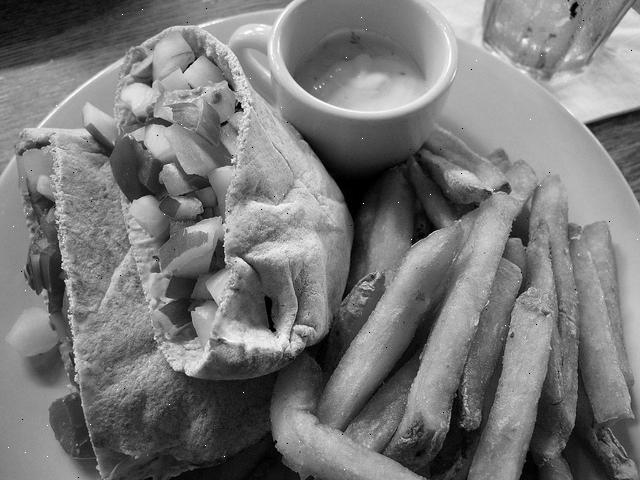cup: (226, 0, 465, 174), (475, 2, 640, 88)
